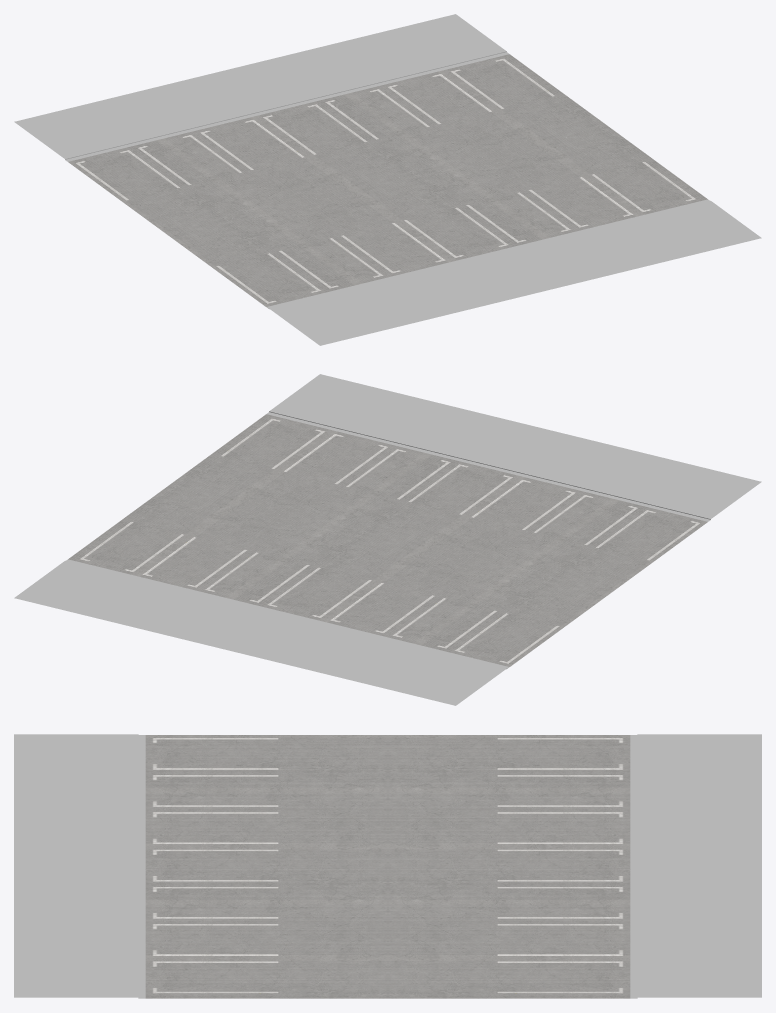
Rendered from Parking_c.FBX.
The picture shows the model from 3 angles, top to bottom: view 1: azimuth 30°, elevation 25°; view 2: azimuth 150°, elevation 25°; view 3: azimuth 270°, elevation 25°; orthographic projection. The views are drawn at different scales.
Parts seen in each view (by area): view 1: Parking_c; view 2: Parking_c; view 3: Parking_c.
Part boxes in pixels (x1,y1,x2,y2): Parking_c: (14,14,761,345); Parking_c: (14,374,761,705); Parking_c: (14,734,761,998).
Size of the model in its own units: 100 by 120 by 0.1384.
